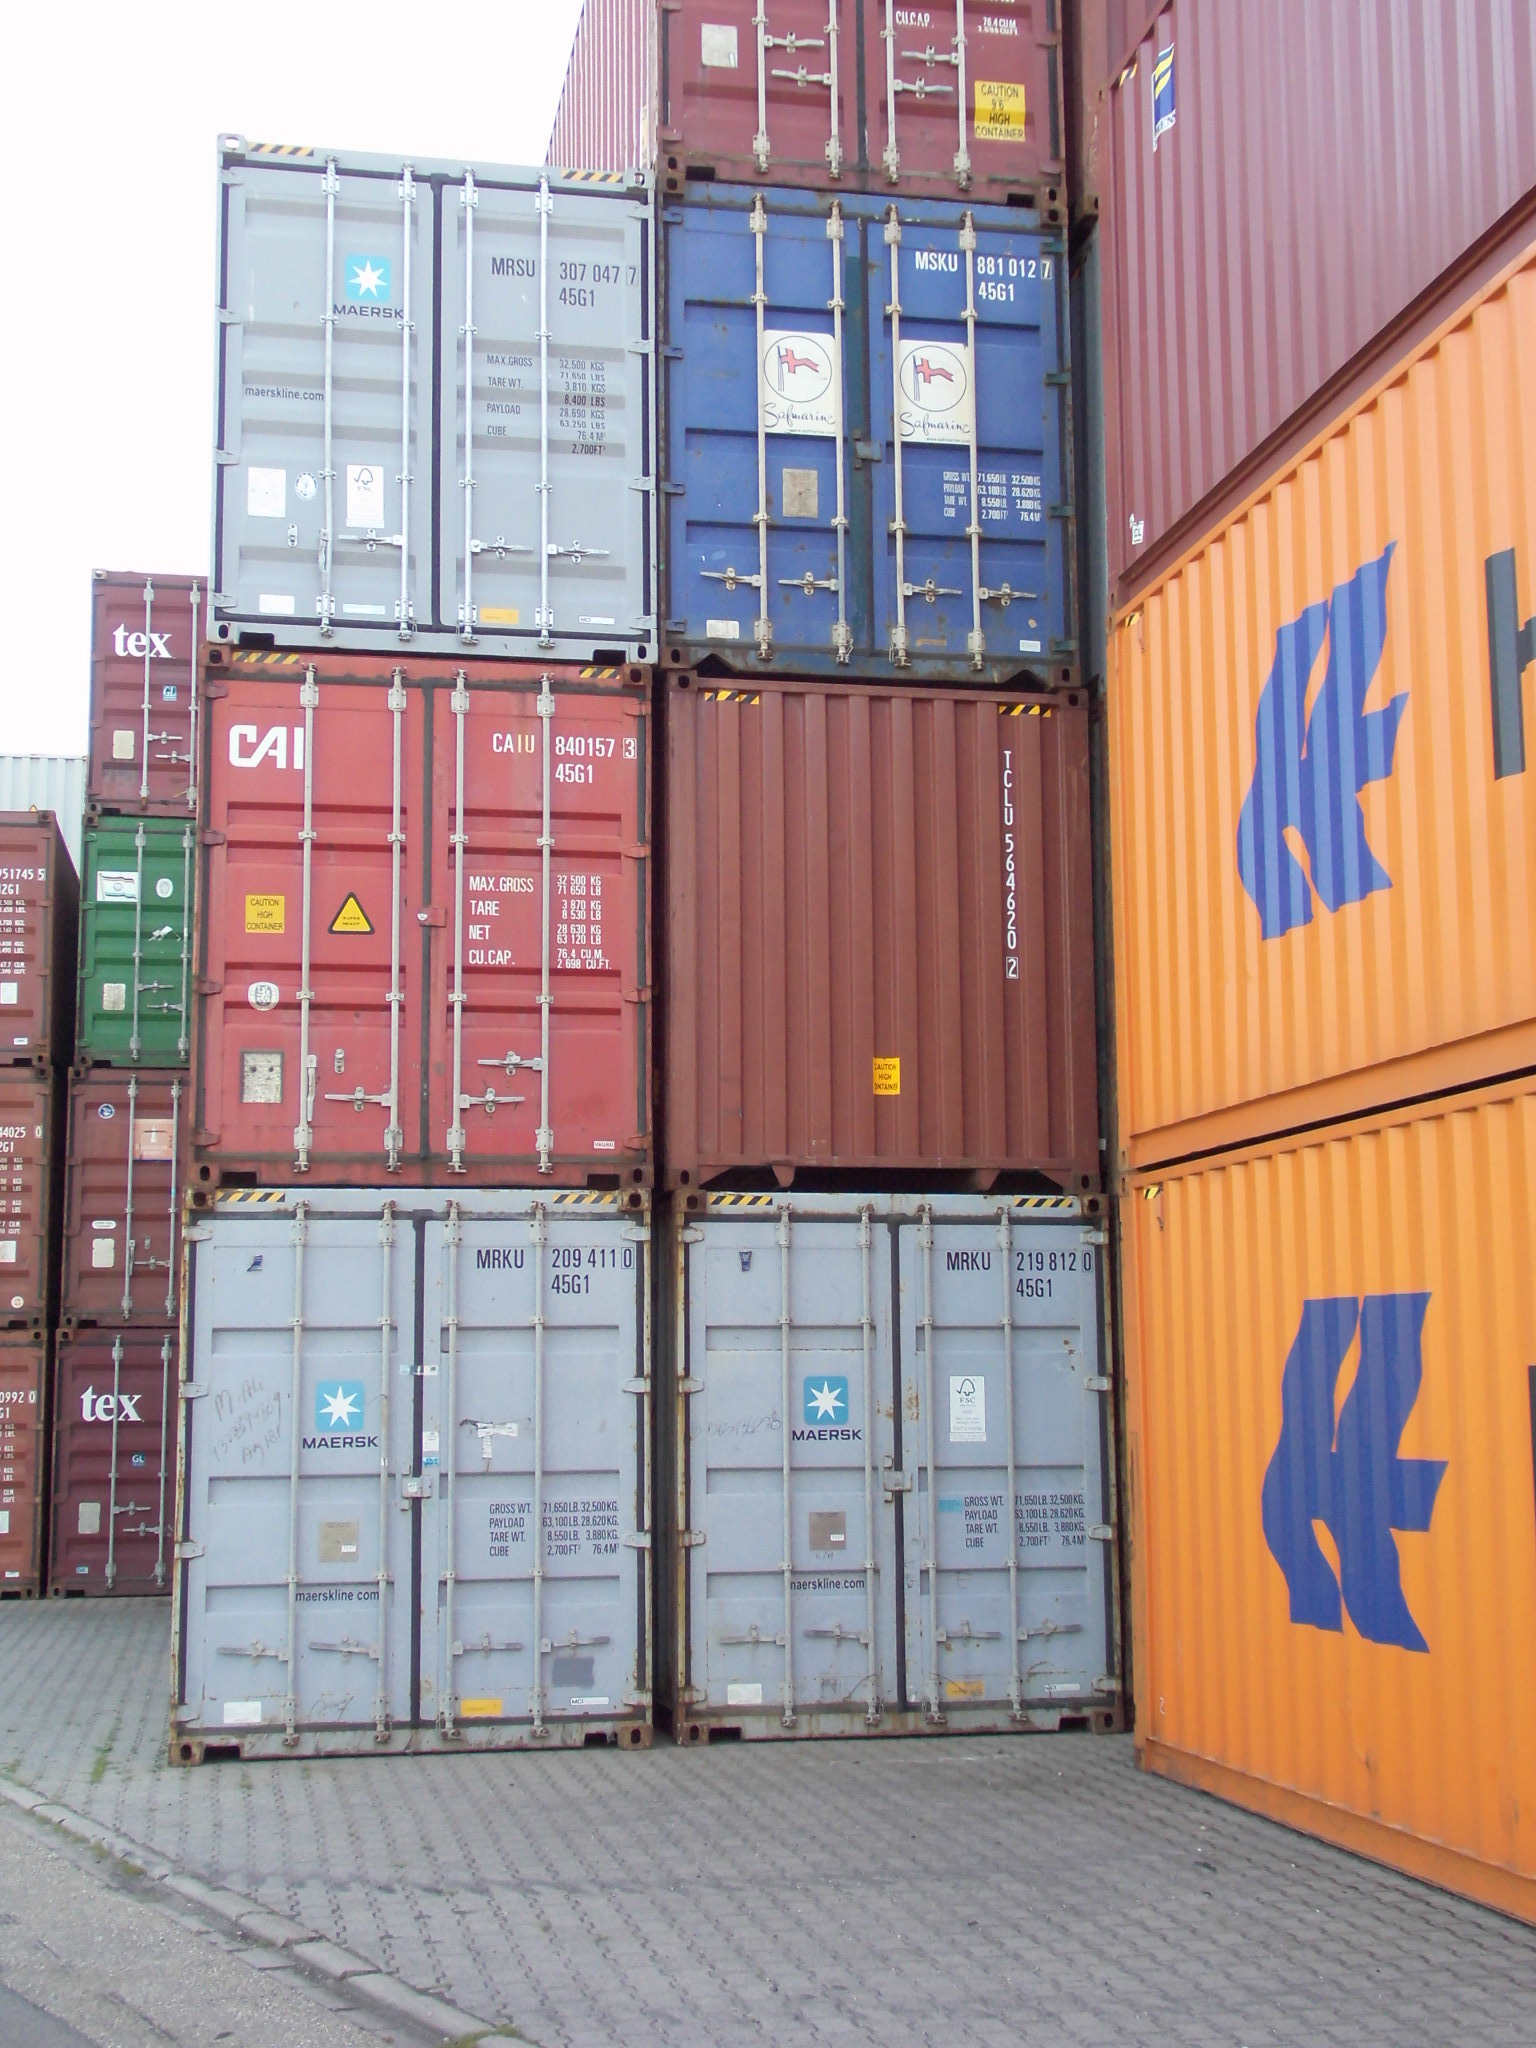container_door: (181, 1192, 668, 1761), (200, 660, 657, 1192), (687, 1197, 1120, 1753), (665, 194, 1073, 701), (219, 171, 657, 642), (657, 2, 1062, 179), (58, 1084, 165, 1330), (50, 1335, 157, 1582), (94, 564, 198, 811), (86, 819, 190, 1066)
container_no_door: (658, 674, 1105, 1185)
